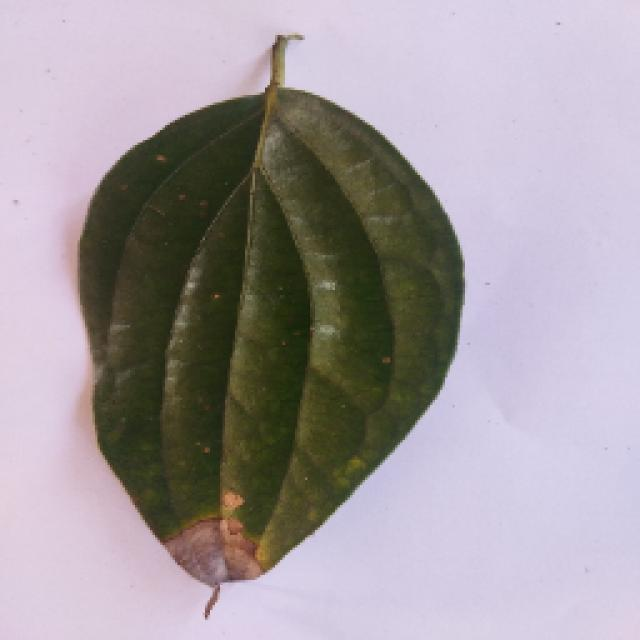footrot: (52, 45, 490, 610)
